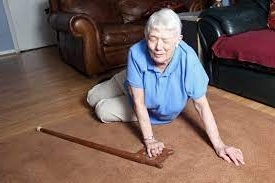fall: (84, 9, 246, 170)
